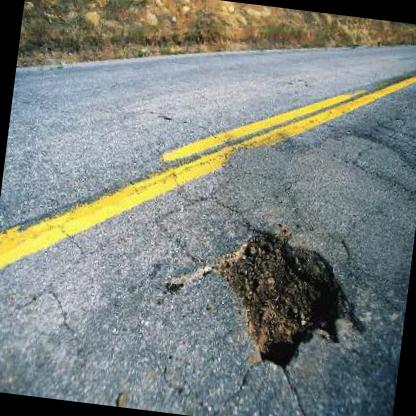pothole: (197, 219, 377, 383)
